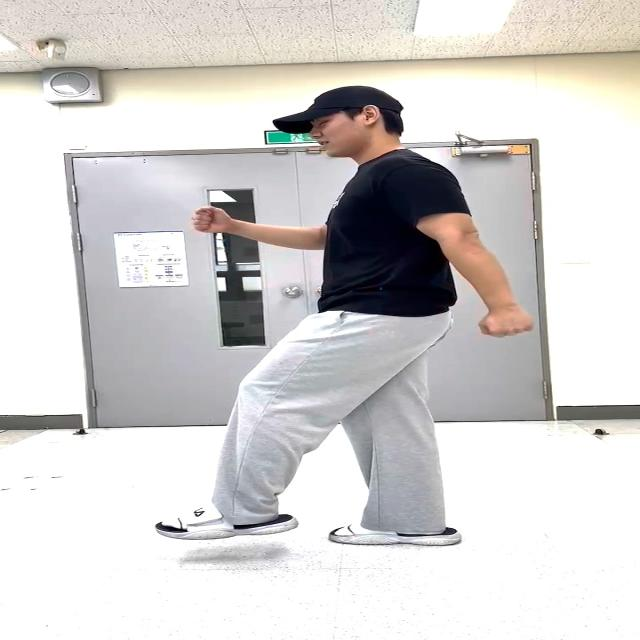leg: (176, 304, 366, 550)
